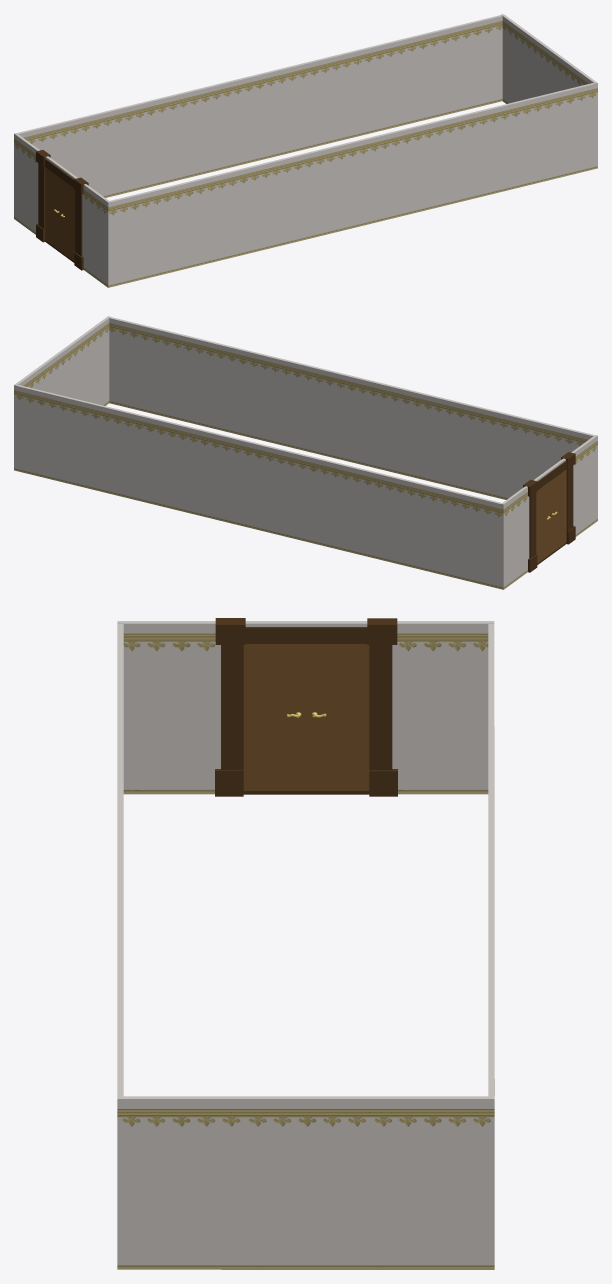
File: Geo_Room9x3_1Door_01.fbx
3 renders of one model, top to bottom at view 1: azimuth 30°, elevation 25°; view 2: azimuth 150°, elevation 25°; view 3: azimuth 270°, elevation 25°, orthographic. The views are drawn at different scales.
Parts seen in each view (by area): view 1: geo_wallTopx9_02, geo_wallTopx9_01, geo_wallCulledx9_02, geo_wallCulledx9_01, geo_wallTopx3_02, geo_wallTopx3_01, geo_door_02, geo_door_01, geo_wallCulledx3_01, geo_doorFrameSide_05, geo_doorFrameSide_01; view 2: geo_wallTopx9_01, geo_wallTopx9_02, geo_wallCulledx9_01, geo_wallCulledx9_02, geo_wallTopx3_02, geo_wallTopx3_01, geo_door_01, geo_door_02, geo_wallCulledx3_01, geo_doorFrameSide_05, geo_doorFrameSide_01; view 3: geo_wallTopx3_02, geo_wallTopx3_01, geo_door_01, geo_door_02, geo_wallCulledx3_02, geo_wallCulledx3_01, geo_wallTopx9_02, geo_wallTopx9_01, geo_doorFrameSide_05, geo_doorFrameSide_01, geo_doorFrameTop_01, geo_doorFrameSide_07 (+1 smaller).
Boxes of the visible parts, x1,y1,x2,y2 form: geo_wallTopx9_02: (106, 83, 597, 276); geo_wallTopx9_01: (17, 15, 502, 189); geo_wallCulledx9_02: (106, 157, 597, 287); geo_wallCulledx9_01: (94, 90, 502, 197); geo_wallTopx3_02: (501, 14, 597, 100); geo_wallTopx3_01: (14, 133, 110, 274); geo_door_02: (45, 167, 60, 251); geo_door_01: (61, 179, 75, 260); geo_wallCulledx3_01: (14, 208, 106, 286); geo_doorFrameSide_05: (38, 163, 45, 229); geo_doorFrameSide_01: (75, 190, 82, 256); geo_wallTopx9_01: (16, 385, 503, 578); geo_wallTopx9_02: (109, 317, 597, 510); geo_wallCulledx9_01: (16, 460, 503, 589); geo_wallCulledx9_02: (109, 392, 597, 521); geo_wallTopx3_02: (14, 316, 110, 459); geo_wallTopx3_01: (501, 435, 597, 577); geo_door_01: (550, 469, 566, 553); geo_door_02: (536, 481, 550, 563); geo_wallCulledx3_01: (503, 511, 596, 589); geo_doorFrameSide_05: (529, 492, 536, 558); geo_doorFrameSide_01: (566, 465, 573, 531); geo_wallTopx3_02: (117, 1096, 494, 1246); geo_wallTopx3_01: (117, 621, 494, 771); geo_door_01: (243, 644, 306, 790); geo_door_02: (306, 644, 369, 790); geo_wallCulledx3_02: (117, 1247, 494, 1269); geo_wallCulledx3_01: (123, 771, 488, 794); geo_wallTopx9_02: (117, 622, 123, 1247); geo_wallTopx9_01: (488, 624, 494, 1096); geo_doorFrameSide_05: (369, 645, 392, 770); geo_doorFrameSide_01: (221, 645, 243, 770); geo_doorFrameTop_01: (245, 627, 367, 643); geo_doorFrameSide_07: (367, 618, 397, 644).
Size of the model in its own units: 904 by 151 by 300.
Materials: 5 (1 with a texture image).
